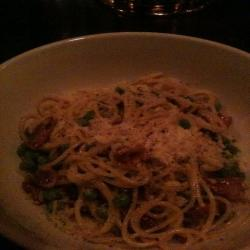bolonese_pasta: (27, 75, 231, 237)
